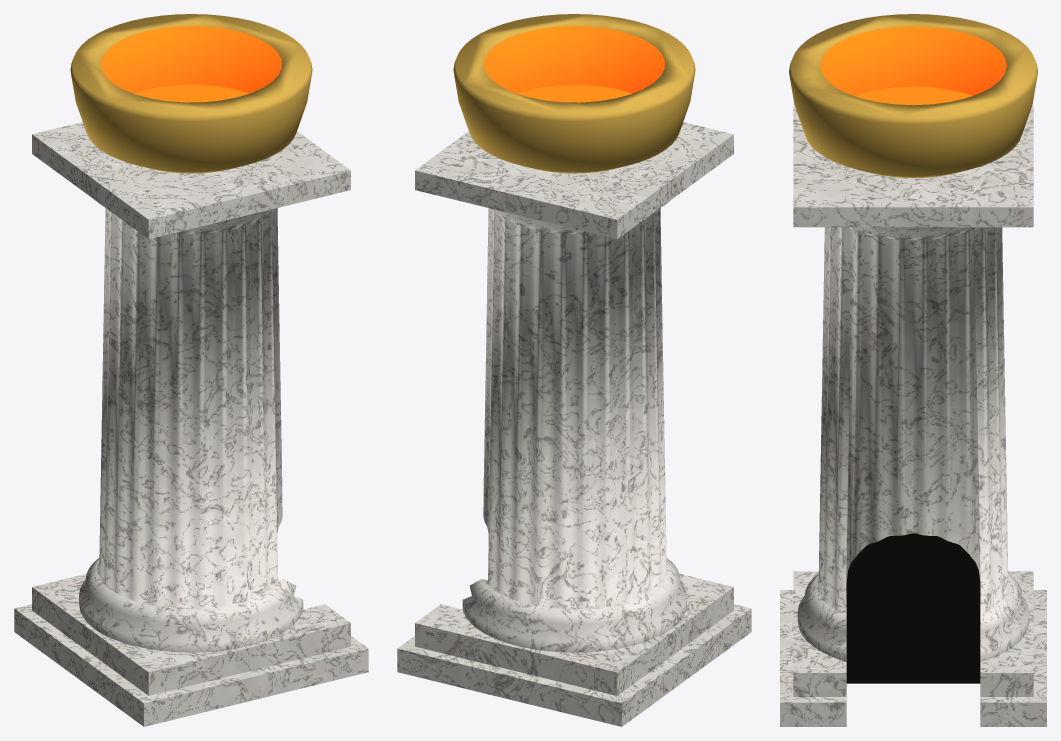
The model's file is marble-column.glb.
3 views of the same model, side by side, from view 1: azimuth 30°, elevation 25°; view 2: azimuth 150°, elevation 25°; view 3: azimuth 270°, elevation 25° (orthographic). The views are drawn at different scales.
Parts seen in each view (by area): view 1: column, brazier; view 2: column, brazier; view 3: column, brazier.
Boxes of the visible parts, bbox=[...] form: column: bbox=[14, 122, 368, 726]; brazier: bbox=[70, 14, 312, 173]; column: bbox=[397, 122, 751, 726]; brazier: bbox=[453, 14, 695, 173]; column: bbox=[780, 105, 1046, 726]; brazier: bbox=[789, 14, 1037, 178].
Size of the model in its own units: 6 by 15 by 6.
Materials: 4 (1 with a texture image).
